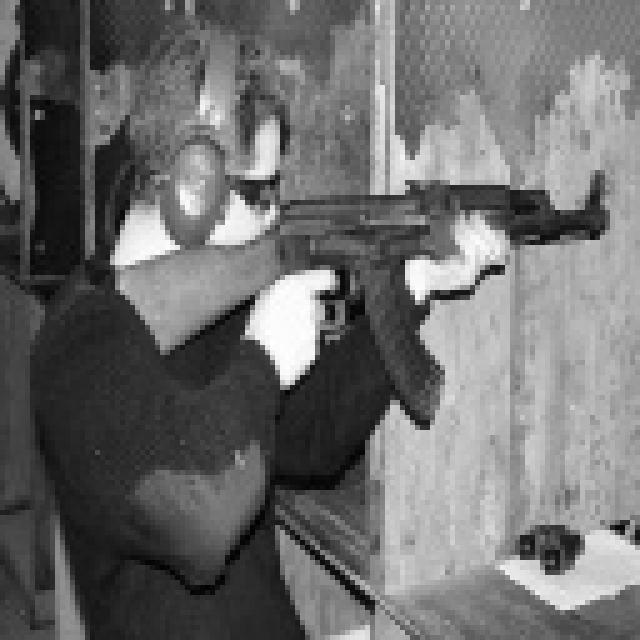Rifle: (259, 20, 632, 435), (0, 25, 640, 236)
